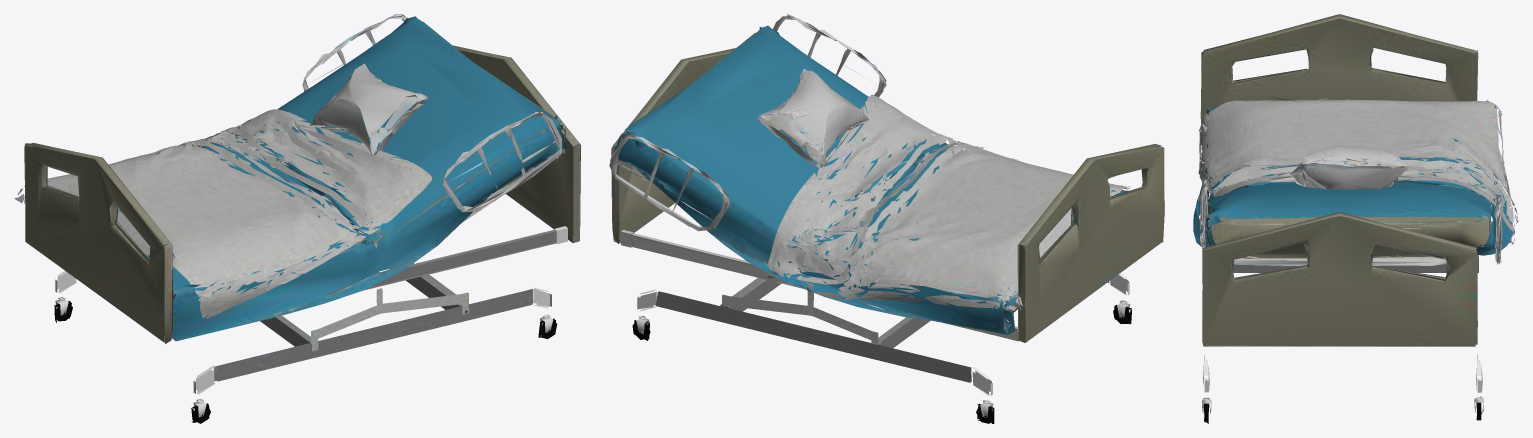
Rendered from clinic_bed.glb.
3 renders of one model, left to right at view 1: azimuth 30°, elevation 25°; view 2: azimuth 150°, elevation 25°; view 3: azimuth 270°, elevation 25°, orthographic.
Parts seen in each view (by area): view 1: clinic_bed; view 2: clinic_bed; view 3: clinic_bed.
Part boxes in pixels (left/top/right/bottom): clinic_bed: left=14, top=14, right=580, bottom=423; clinic_bed: left=609, top=14, right=1164, bottom=423; clinic_bed: left=1193, top=14, right=1518, bottom=423.
Size of the model in its own units: 1.52 by 0.7893 by 1.03.
10 materials, 6 textured.
